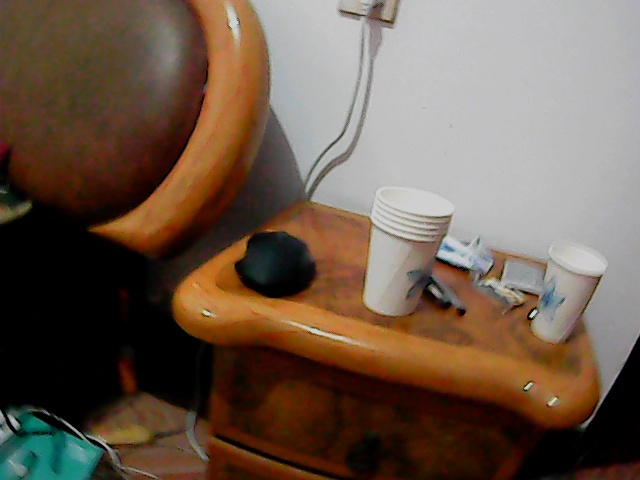cup: (365, 181, 450, 322)
mouse: (230, 226, 319, 297)
